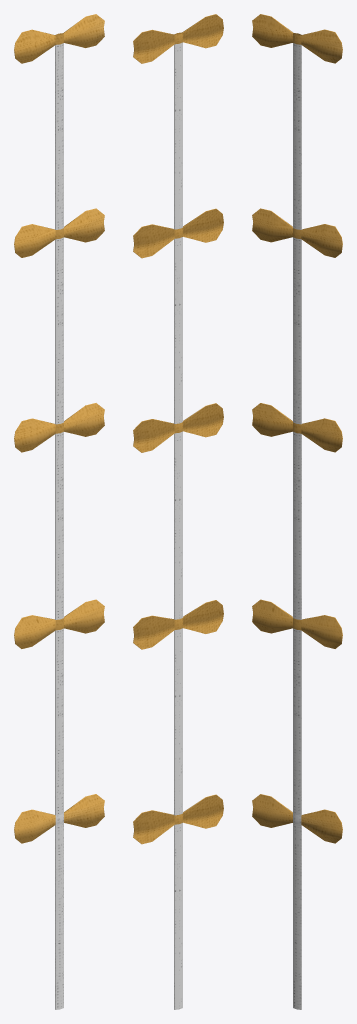
File: KiteTailCloth(notused).fbx
The picture shows the model from 3 angles, left to right: view 1: azimuth 30°, elevation 25°; view 2: azimuth 210°, elevation 25°; view 3: azimuth 330°, elevation 25°; orthographic projection.
Parts seen in each view (by area): view 1: Kite_Tail8; view 2: Kite_Tail8; view 3: Kite_Tail8.
Part boxes in pixels (x1,y1,x2,y2): Kite_Tail8: (14, 14, 104, 1009); Kite_Tail8: (133, 14, 223, 1009); Kite_Tail8: (252, 14, 342, 1009).
Bounding box in the file's own units: 10.14 × 106 × 1.02.
